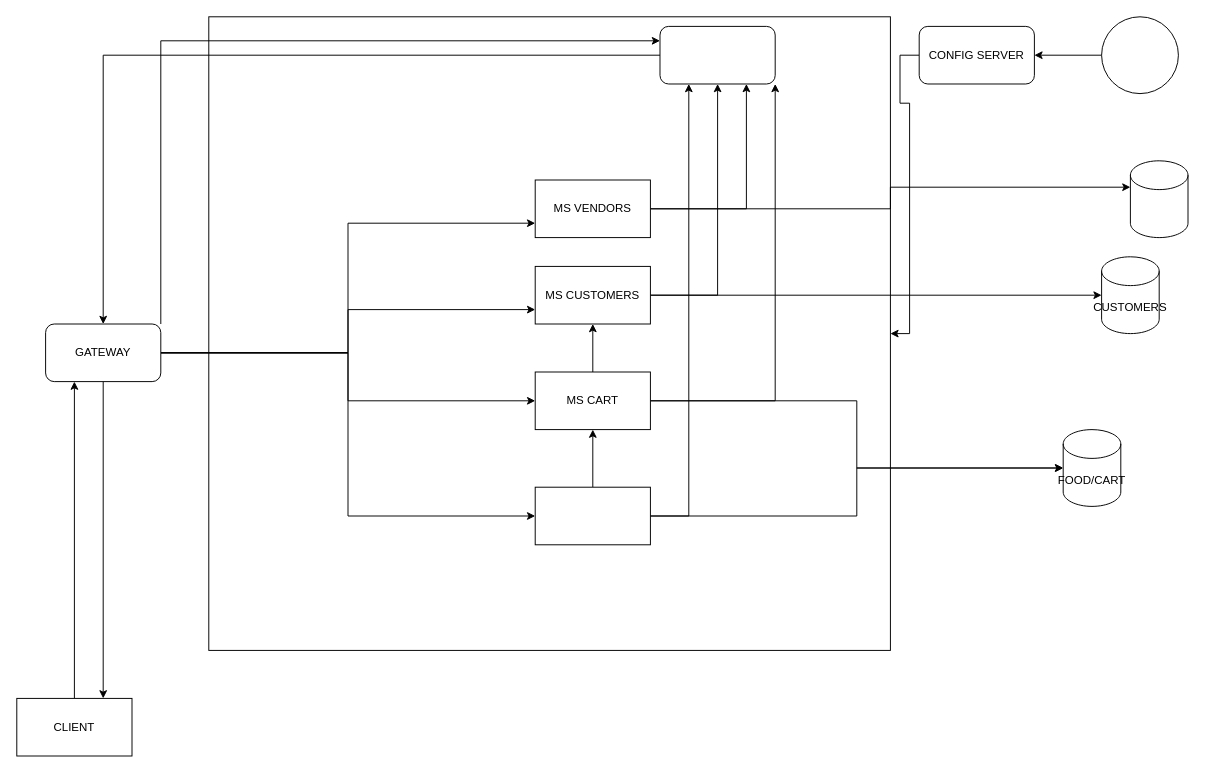
This 1205x773 diagram has some shape labels left out. The centre of each missing label's shape, as x and y in pixels:
GITHUB: (1139,55)
MS FOOD: (592,515)
REGISTRY SERVER: (717,54)
VENDORS: (1158,199)
